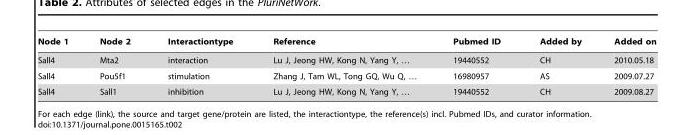table: (37, 36, 655, 95)
table column: (252, 36, 434, 95), (148, 36, 252, 95), (434, 36, 519, 95), (519, 36, 597, 95), (83, 36, 148, 95), (597, 36, 655, 95), (37, 36, 83, 95)
table column header: (37, 36, 655, 50)
table row: (37, 50, 655, 67), (37, 67, 655, 83), (37, 36, 655, 50), (37, 83, 655, 95)
